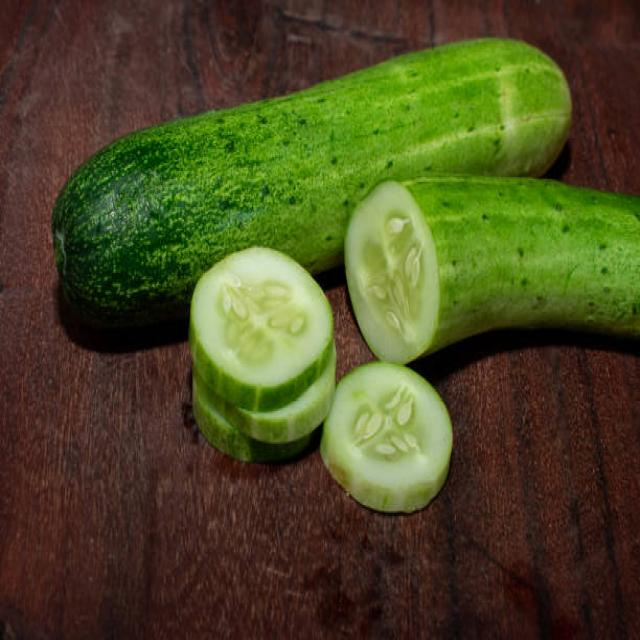cucumber: (58, 39, 574, 326), (343, 175, 640, 362)
